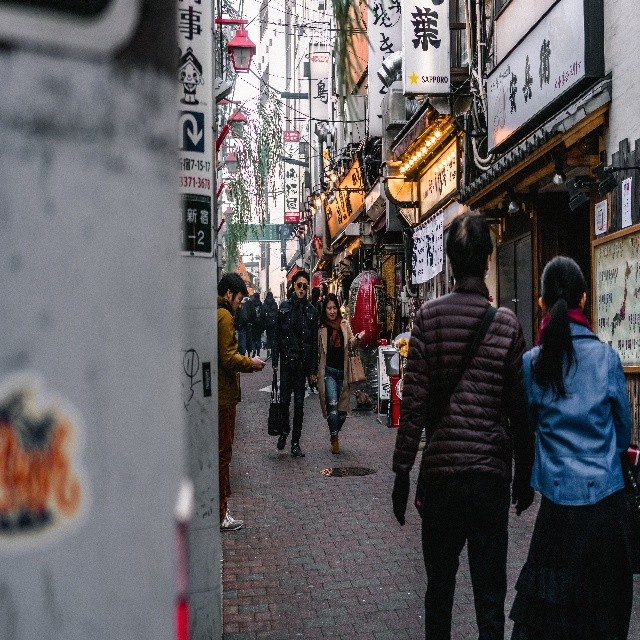Gafas: (295, 282, 308, 290)
Guantes: (512, 469, 535, 517), (392, 472, 411, 525)
Sin_guantes: (252, 356, 266, 372), (358, 330, 366, 340), (310, 374, 317, 384), (272, 365, 278, 372), (318, 296, 322, 301)
